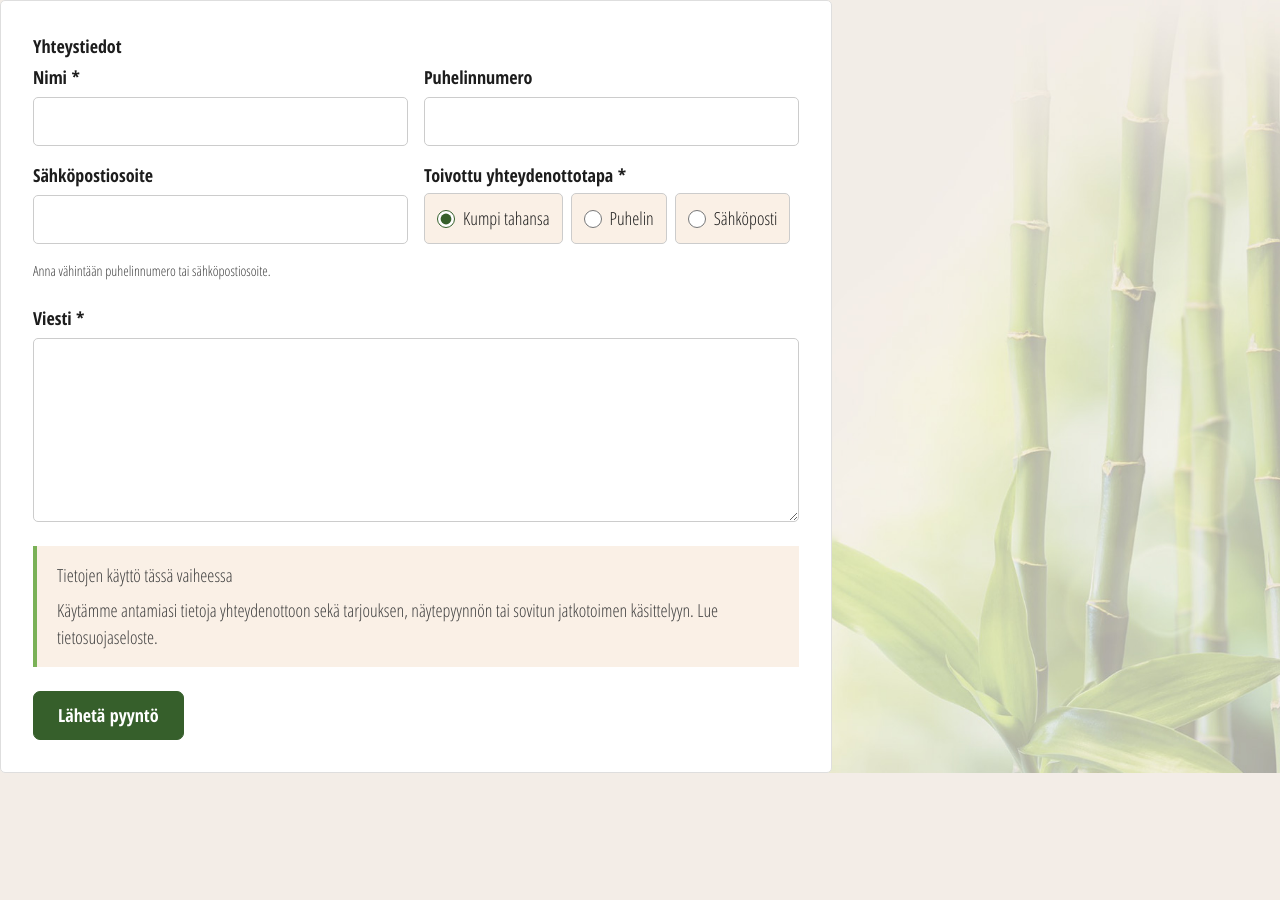
it: inquiry form interaction states › blocks a second click while pending and presents a success result only after a successful response
Type "Maija Meikäläinen" into the field labelled "Nimi *". click: (220, 122)
box: [33,97,408,146]
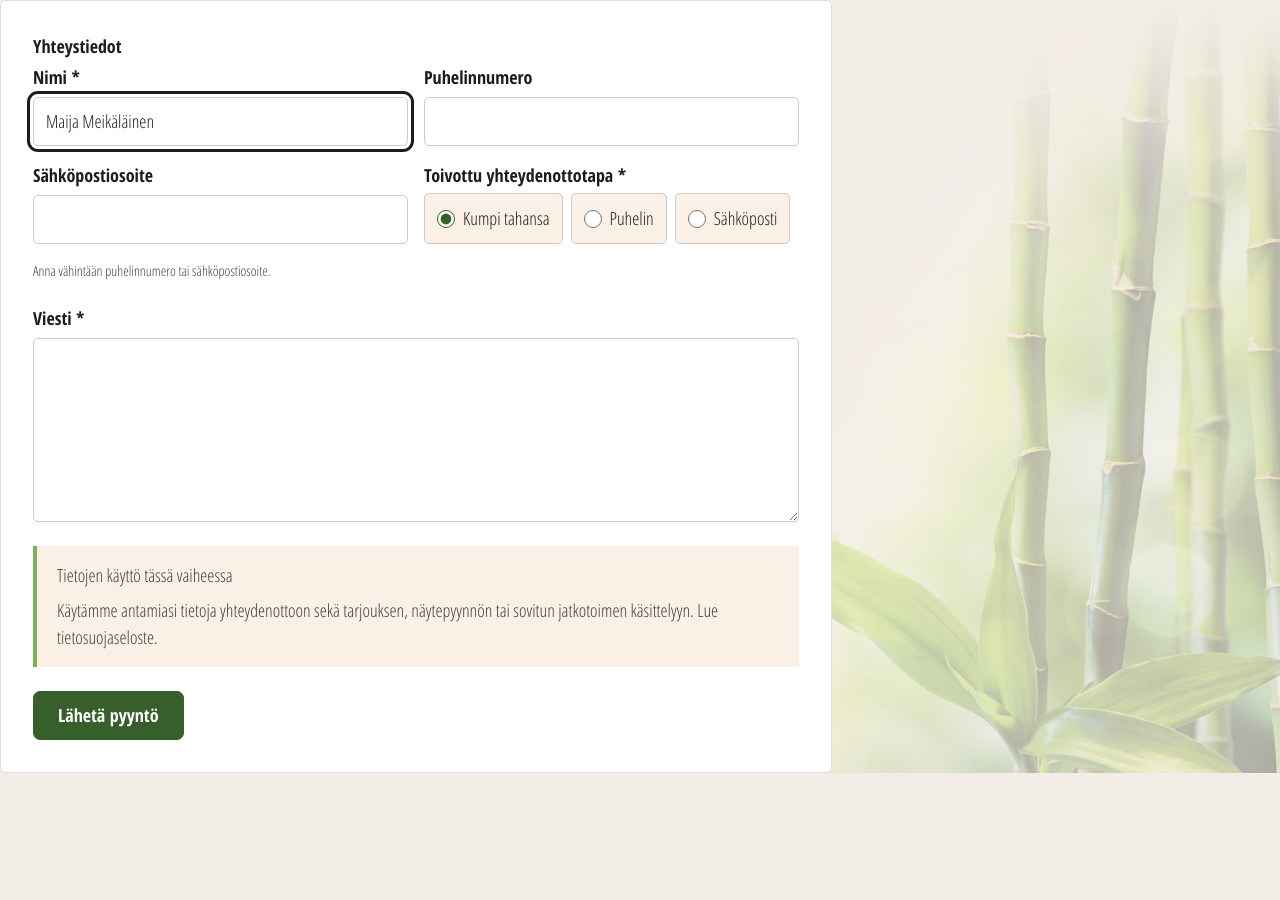
Type "maija@example.fi" into the field labelled "Sähköpostiosoite". click: (220, 220)
box: [33,195,408,244]
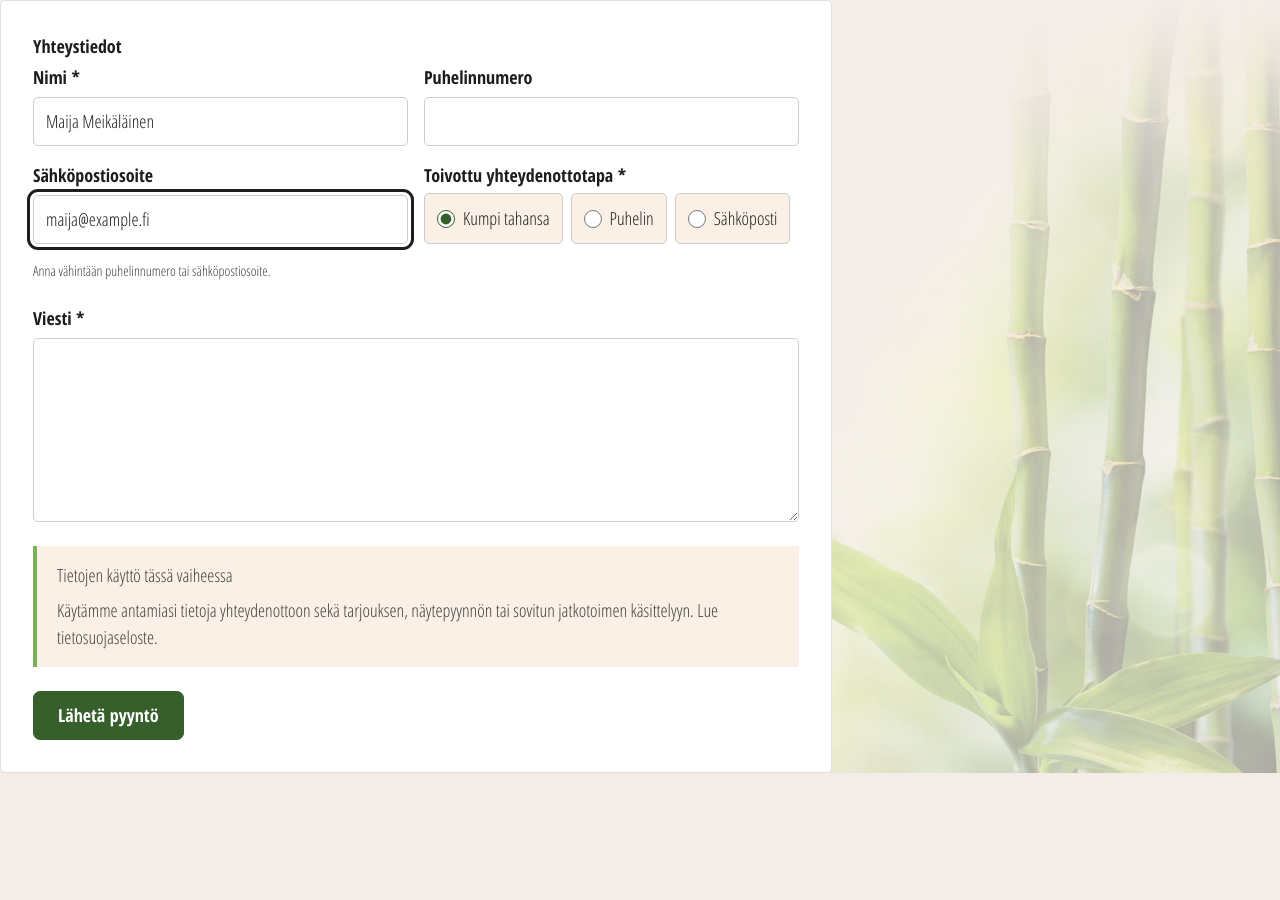
Type "Tarvitsen lisätietoja." into the text box labelled "Viesti *". click: (416, 430)
box: [33,338,799,522]
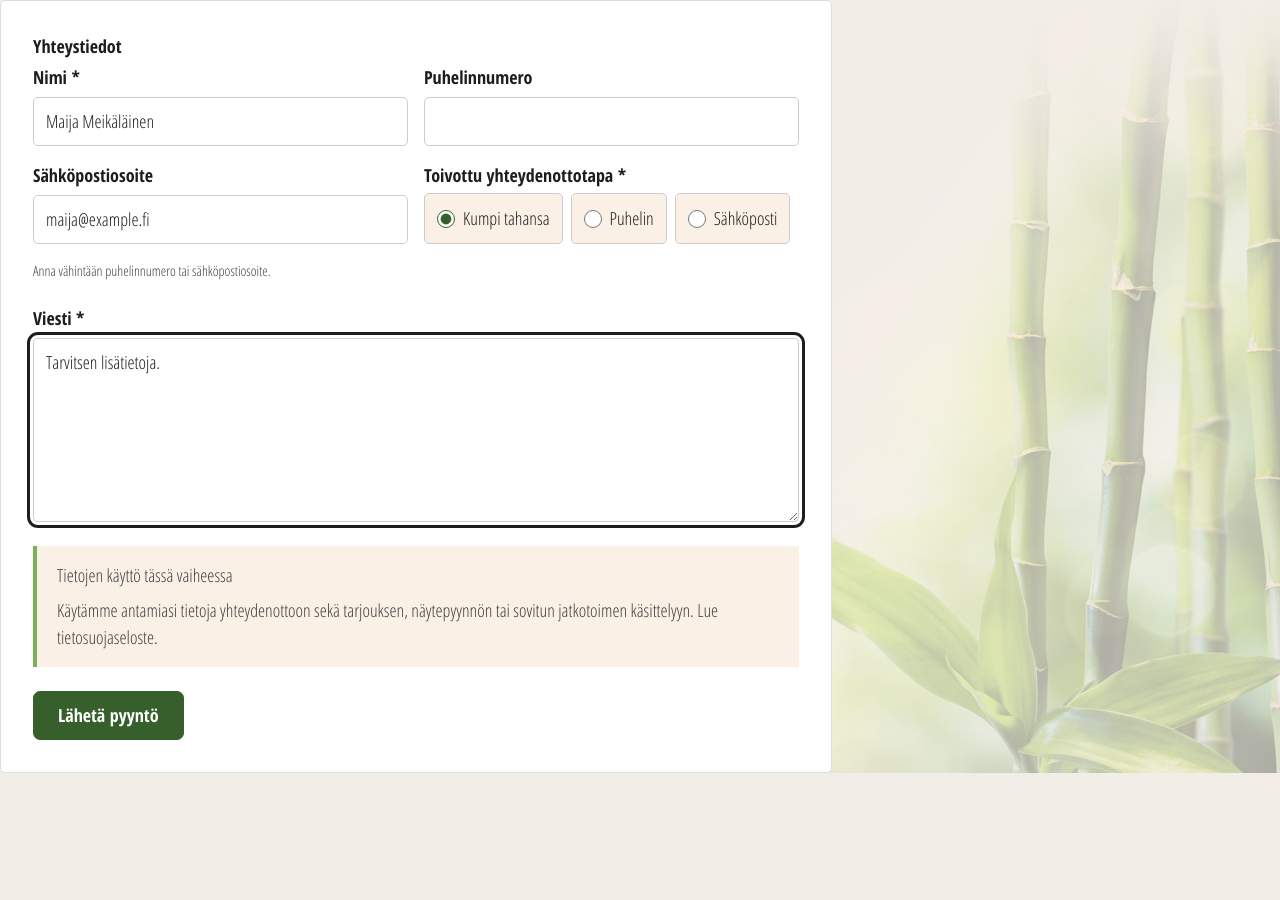
Click the button "Lähetä pyyntö". click: (108, 716)
box: [33,691,184,740]
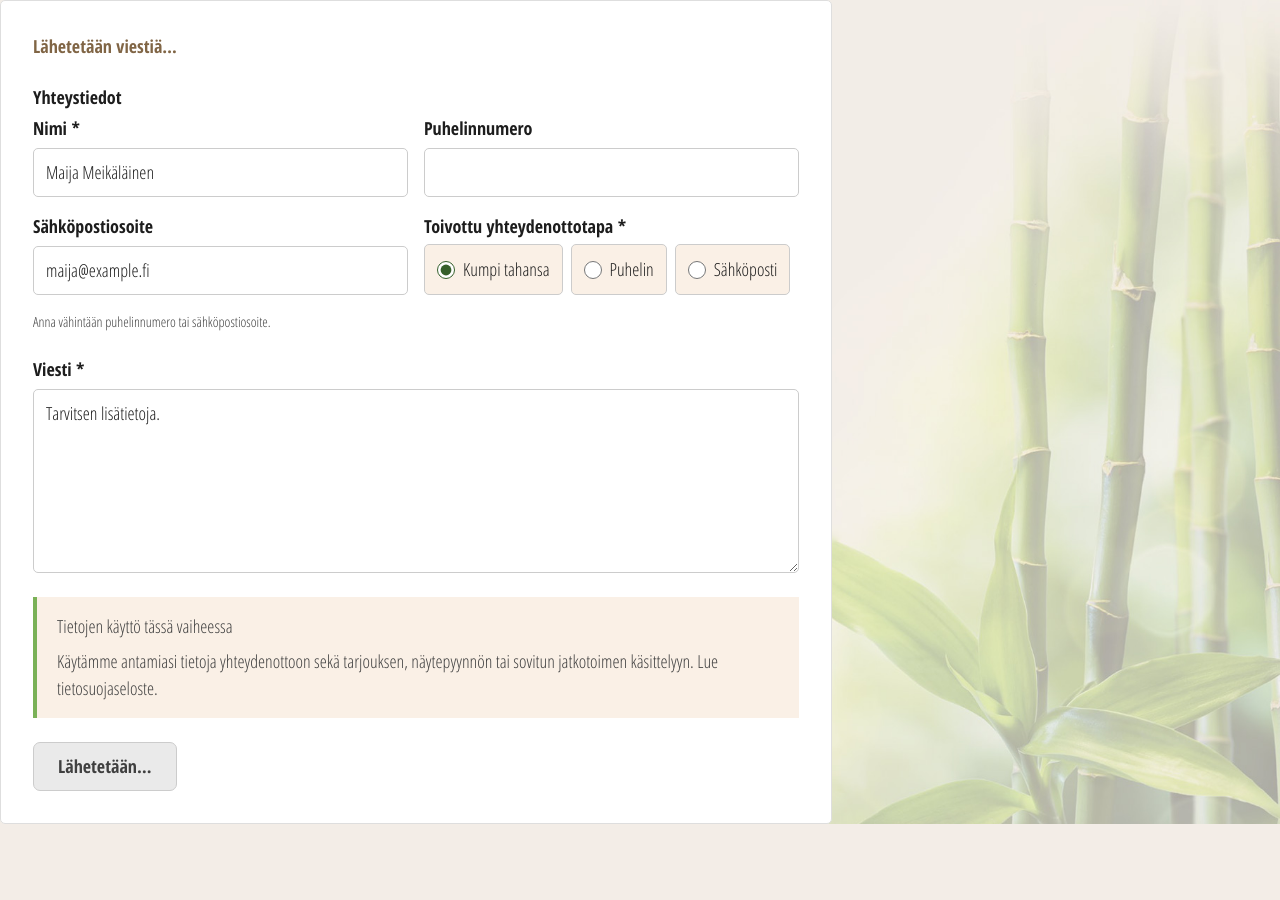
expect the message reads "Lähetetään viestiä…": met, box [33,34,177,58]
expect the button named "Lähetä pyyntö" is disabled: met
Click the button named "Lähetä pyyntö". click: (105, 766)
box: [33,742,176,791]
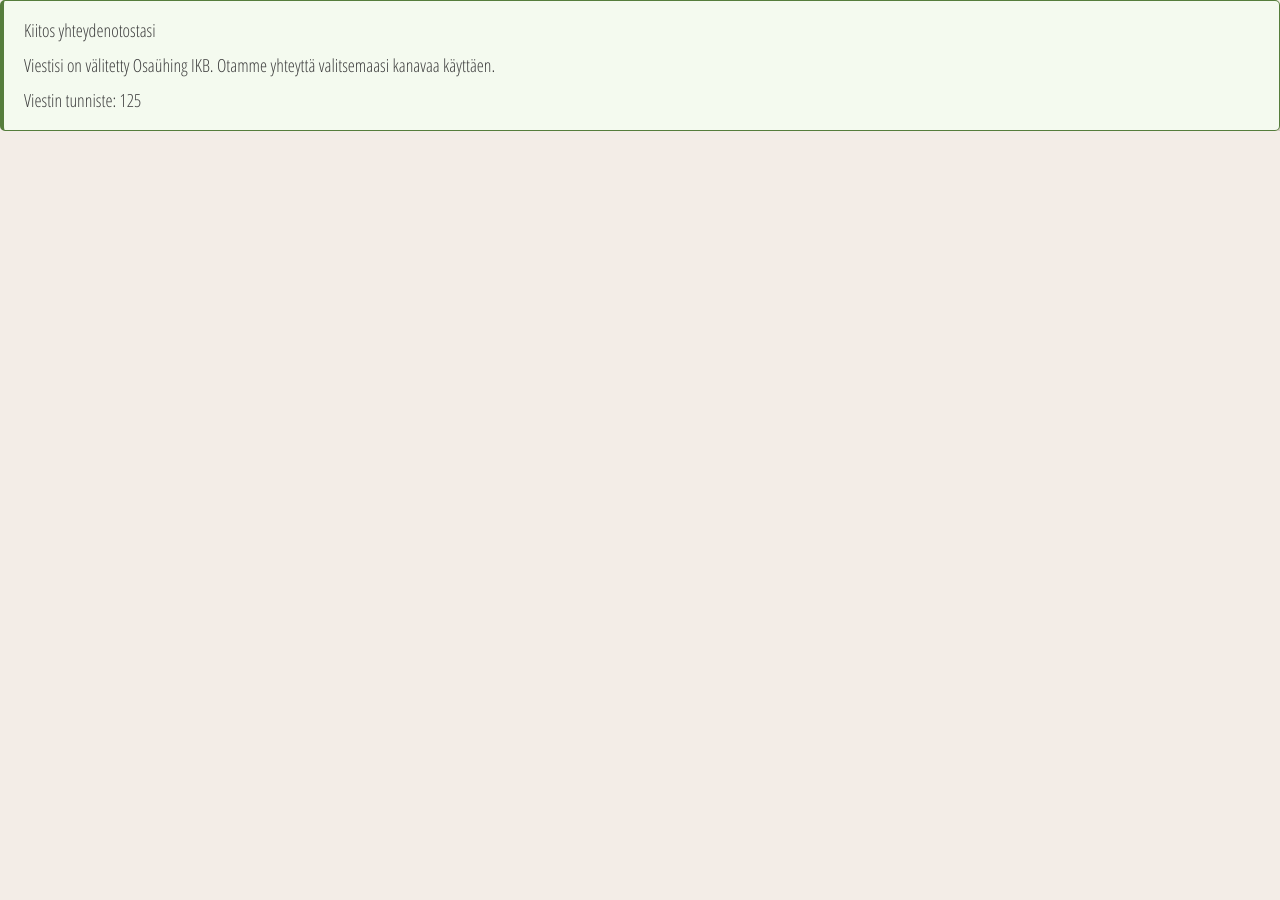
expect the message shows "Kiitos yhteydenotostasi": met, box [24,18,156,42]
expect the message shows "Viestin tunniste: 125": met, box [0,0,1279,131]
